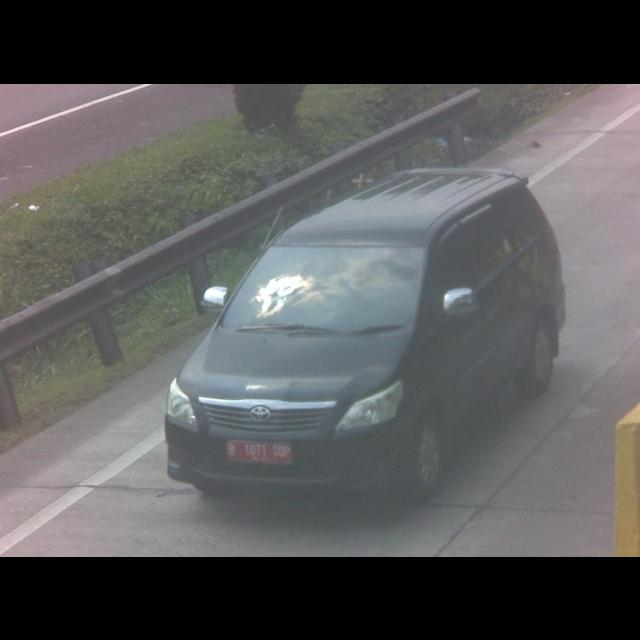plate: (222, 439, 295, 466)
